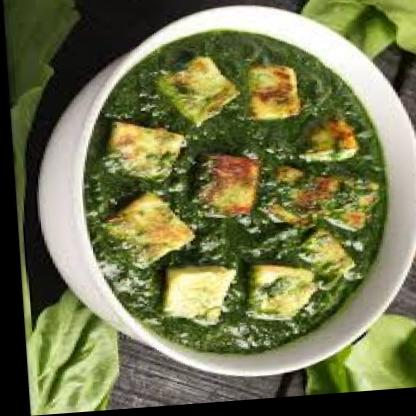palak_paneer: (71, 24, 392, 366)
